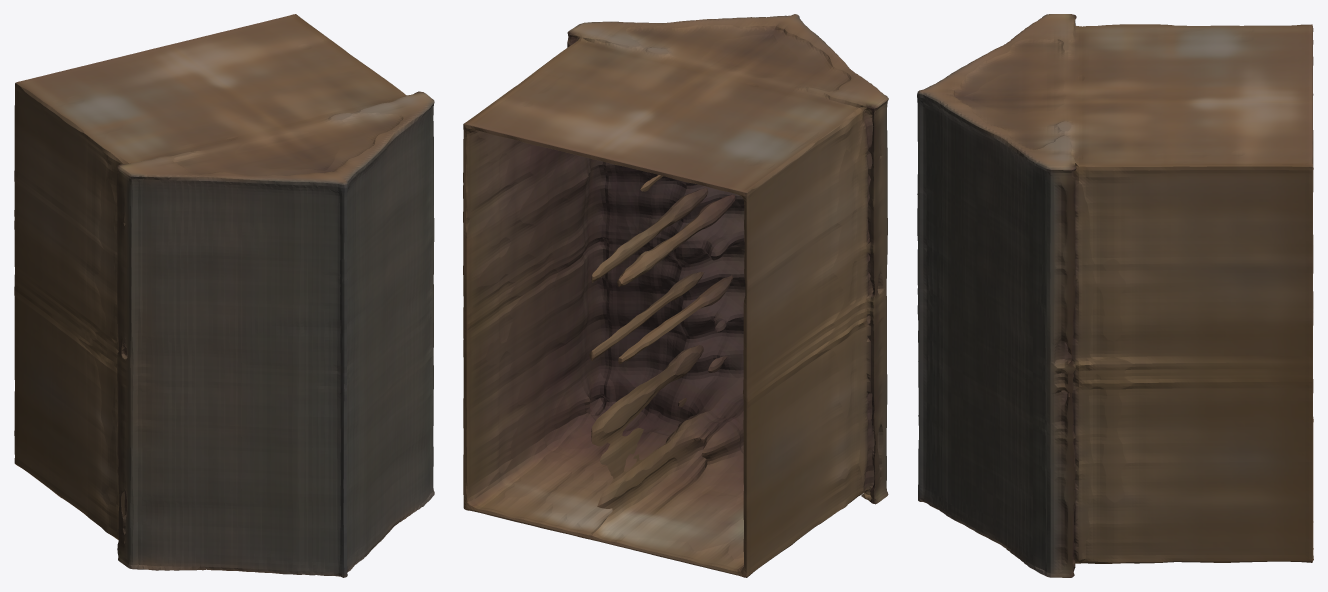
Rendered from shed-previous.glb.
3 renders of one model, left to right at view 1: azimuth 30°, elevation 25°; view 2: azimuth 150°, elevation 25°; view 3: azimuth 270°, elevation 25°, orthographic. The views are drawn at different scales.
Parts seen in each view (by area): view 1: previous.ply; view 2: previous.ply; view 3: previous.ply.
Boxes of the visible parts, x1,y1,x2,y2 form: previous.ply: (14, 14, 434, 577); previous.ply: (463, 14, 888, 577); previous.ply: (917, 14, 1313, 577).
Size of the model in its own units: 1.61 by 1.98 by 1.74.
